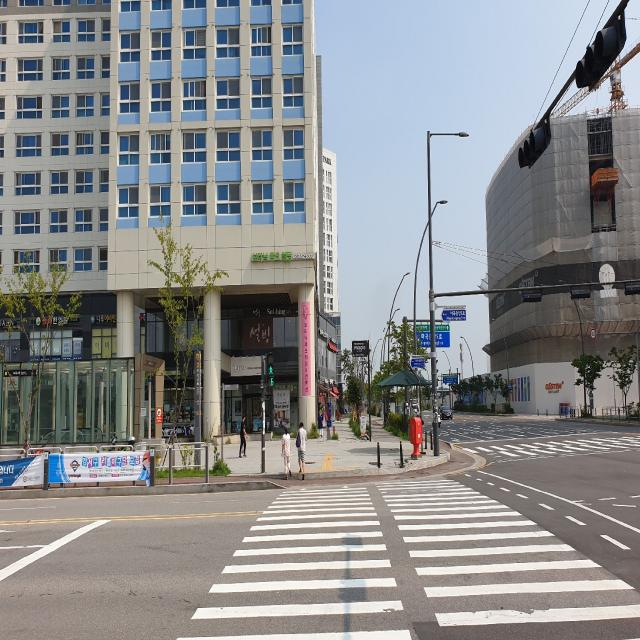횡단보도: (188, 478, 640, 640), (463, 436, 640, 459)
